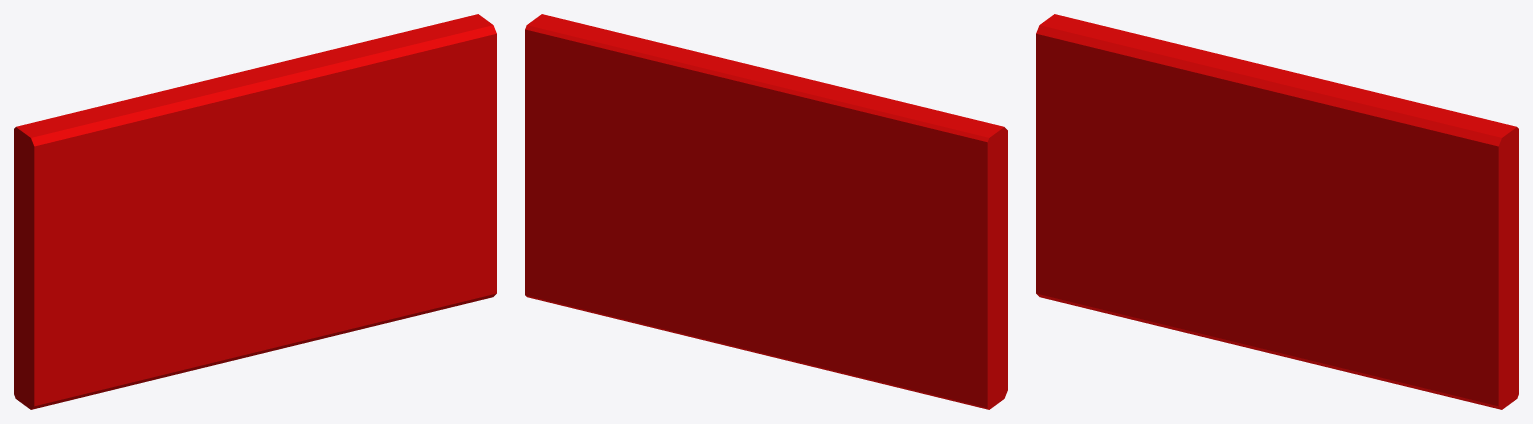
File: Bottom_wall_4.fbx
3 renders of one model, left to right at view 1: azimuth 30°, elevation 25°; view 2: azimuth 150°, elevation 25°; view 3: azimuth 330°, elevation 25°, orthographic.
Visible parts, largest first — view 1: L19:polySurface1; view 2: L19:polySurface1; view 3: L19:polySurface1.
Boxes of the visible parts, box(x1,y1,x2,y2) form: L19:polySurface1: box(14, 14, 496, 409); L19:polySurface1: box(525, 14, 1007, 409); L19:polySurface1: box(1036, 14, 1518, 409).
Size of the model in its own units: 262 by 147 by 19.83.
